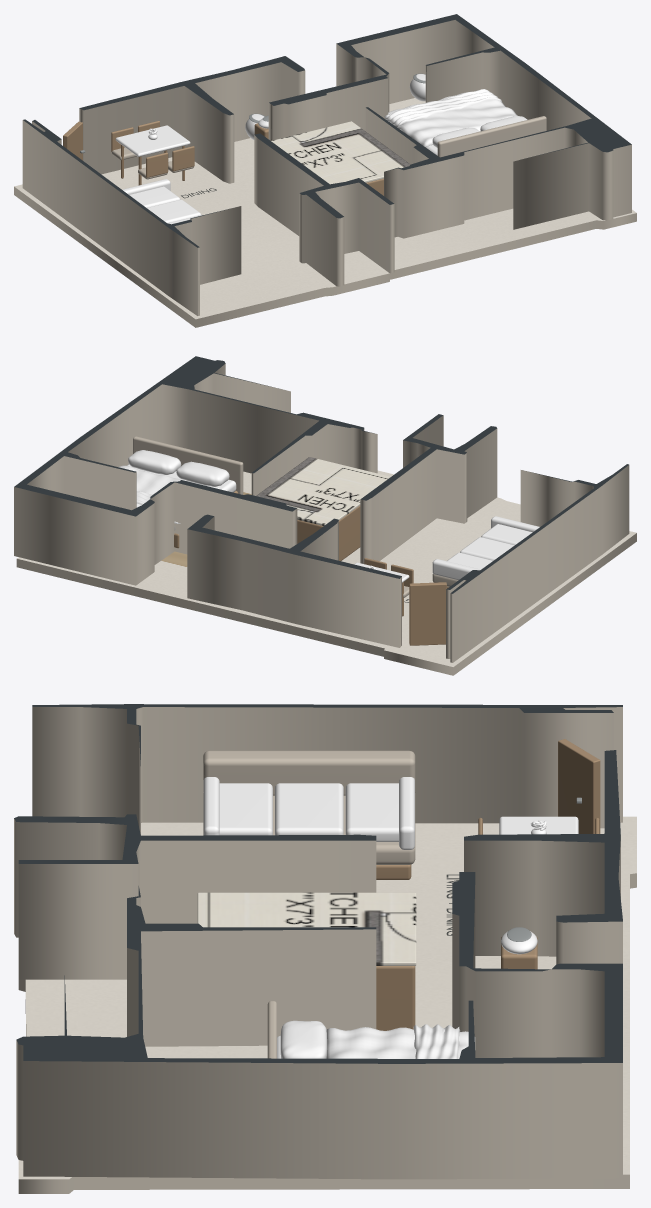
The model's file is coral-group-unit-05.glb.
3 renders of one model, top to bottom at view 1: azimuth 30°, elevation 25°; view 2: azimuth 150°, elevation 25°; view 3: azimuth 270°, elevation 25°, orthographic. The views are drawn at different scales.
Visible parts, largest first — view 1: Partition walls, Apartment floor, Stone worktop, Draped bed linen, Upholstered headboard, Draped bed linen.001, Marble dining top, Seat cushion.001, Seat cushion.002, Open oak door, Chair back.001, Chair back; view 2: Partition walls, Apartment floor, Stone worktop, Open oak door, Upholstered headboard, Kitchen cabinets, Tailored pillow, Tailored pillow.001, Draped bed linen, Seat cushion.001, Seat cushion, Padded armrest.001; view 3: Partition walls, Apartment floor, Stone worktop, Sofa back, Seat cushion.001, Open oak door, Seat cushion.002, Draped bed linen, Seat cushion, Kitchen cabinets, Tailored pillow, Draped bed linen.001 (+5 smaller).
Boxes of the visible parts, x1,y1,x2,y2 form: Partition walls: (22, 14, 631, 315); Apartment floor: (14, 98, 636, 327); Stone worktop: (271, 121, 410, 184); Draped bed linen: (386, 90, 519, 147); Upholstered headboard: (437, 116, 546, 157); Draped bed linen.001: (384, 89, 501, 127); Marble dining top: (115, 125, 190, 156); Seat cushion.001: (147, 199, 201, 223); Seat cushion.002: (129, 186, 180, 207); Open oak door: (63, 121, 82, 160); Chair back.001: (172, 146, 194, 171); Chair back: (146, 152, 168, 177); Partition walls: (14, 356, 629, 662); Apartment floor: (16, 470, 636, 675); Stone worktop: (256, 457, 390, 525); Open oak door: (409, 582, 446, 645); Upholstered headboard: (133, 436, 243, 494); Kitchen cabinets: (297, 505, 360, 561); Tailored pillow: (176, 461, 229, 486); Tailored pillow.001: (128, 450, 181, 474); Draped bed linen: (118, 465, 221, 523); Seat cushion.001: (460, 537, 514, 560); Seat cushion: (481, 524, 532, 545); Padded armrest.001: (432, 559, 480, 580); Partition walls: (14, 704, 622, 1179); Apartment floor: (18, 816, 636, 1193); Stone worktop: (197, 892, 416, 965); Sofa back: (203, 750, 415, 795); Seat cushion.001: (275, 783, 343, 835); Open oak door: (558, 739, 600, 833); Seat cushion.002: (345, 783, 398, 841); Draped bed linen: (326, 1027, 475, 1058); Seat cushion: (219, 783, 272, 835); Kitchen cabinets: (376, 966, 415, 1030); Tailored pillow: (280, 1020, 327, 1058); Draped bed linen.001: (413, 1024, 460, 1058).
Bounding box in the file's own units: 8.62 × 1.44 × 6.26.
Materials: 12 (2 with a texture image).
